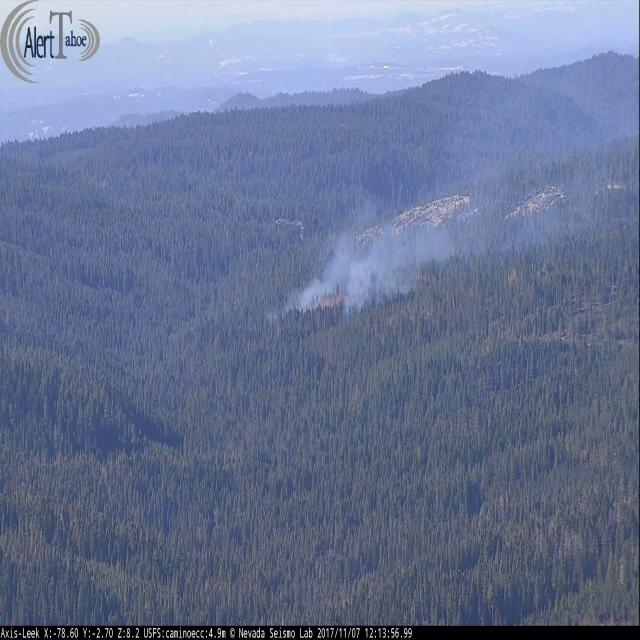smoke: (266, 65, 634, 321)
